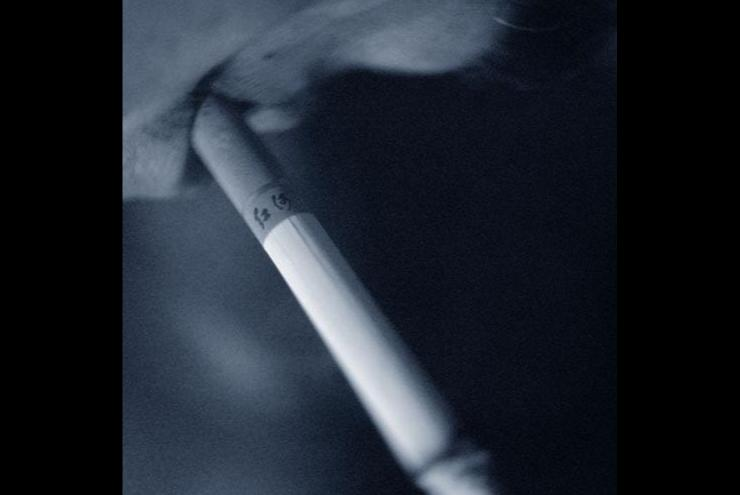Cigarette: (193, 98, 521, 495)
